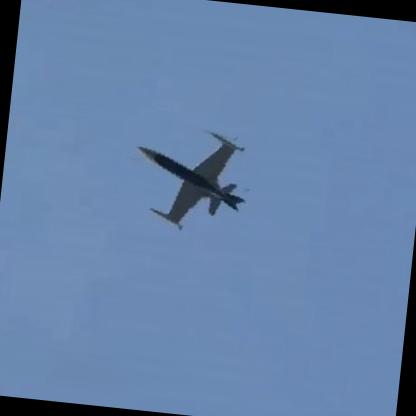plane: (116, 112, 262, 245)
